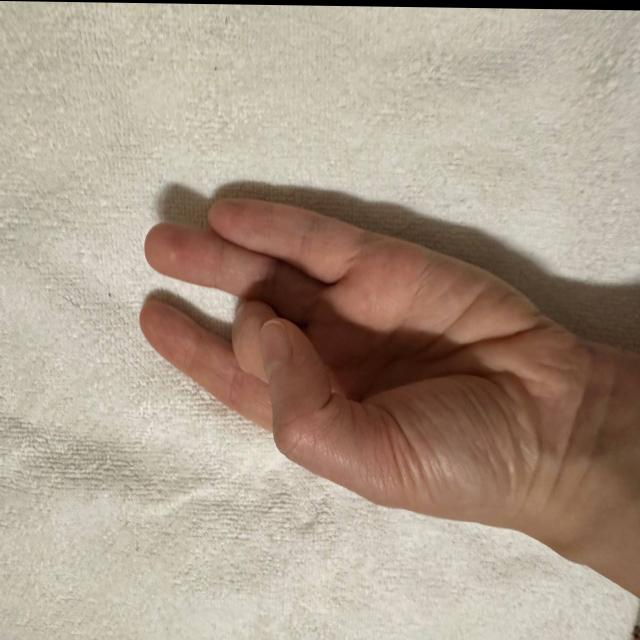r: (128, 168, 604, 510)
